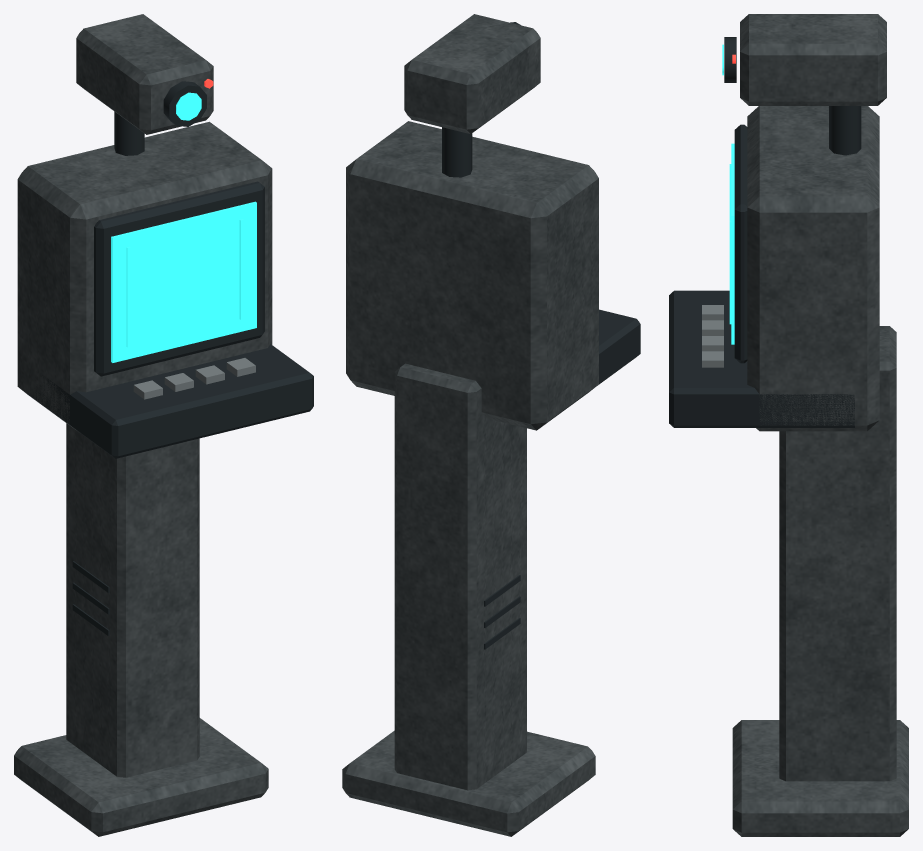
File: CCTV_TERMINAL_v01.fbx
3 views of the same model, side by side, from view 1: azimuth 30°, elevation 25°; view 2: azimuth 150°, elevation 25°; view 3: azimuth 270°, elevation 25° (orthographic). The views are drawn at different scales.
Parts seen in each view (by area): view 1: LE_CCTV_TERMINAL_Mesh; view 2: LE_CCTV_TERMINAL_Mesh; view 3: LE_CCTV_TERMINAL_Mesh.
Part boxes in pixels (x1=…): LE_CCTV_TERMINAL_Mesh: x1=14, y1=14, x2=313, y2=836; LE_CCTV_TERMINAL_Mesh: x1=342, y1=14, x2=640, y2=836; LE_CCTV_TERMINAL_Mesh: x1=669, y1=14, x2=908, y2=836.
Bounding box in the file's own units: 0.49 × 1.73 × 0.49.
Materials: 5 (1 with a texture image).
